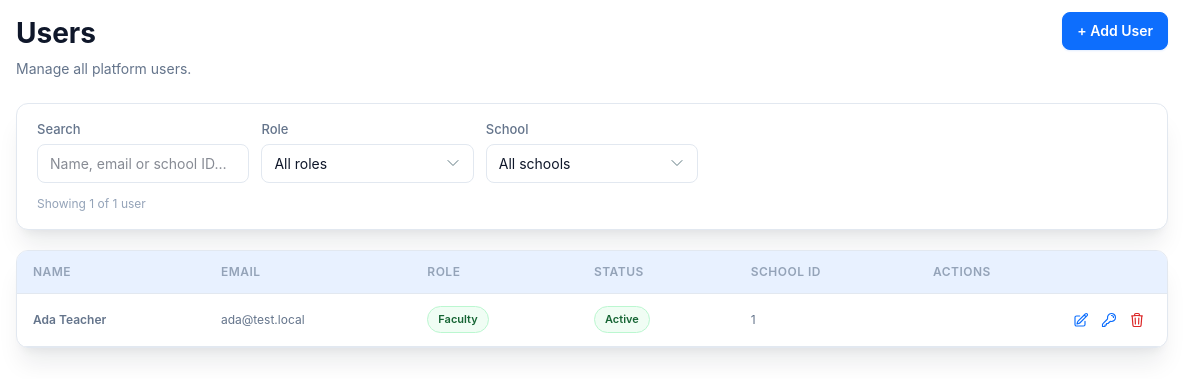
Test case: ManageUsers admin page › deletes a user only after confirmation
The width and height of the screenshot is (1197, 379).
Click the button named "Delete user" at (1137, 320), box [1123,306,1151,334]
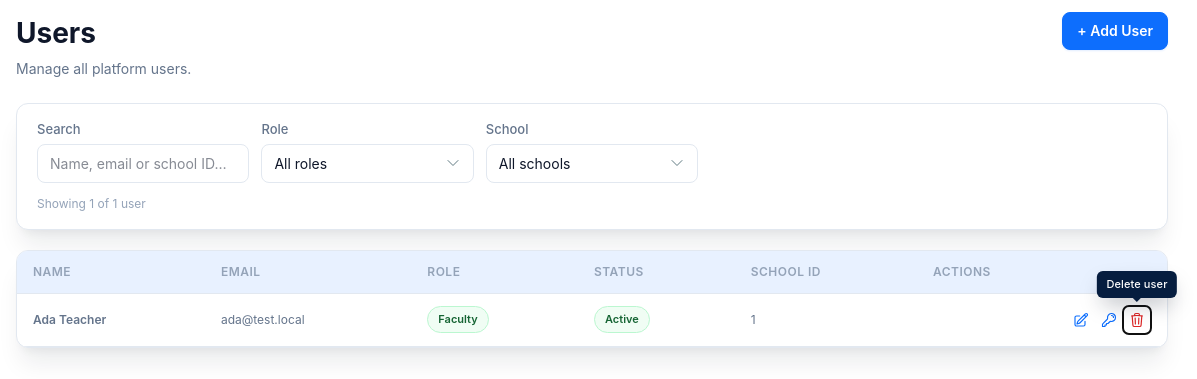
Click the button named "Delete user" at (1137, 320), box [1123,306,1151,334]
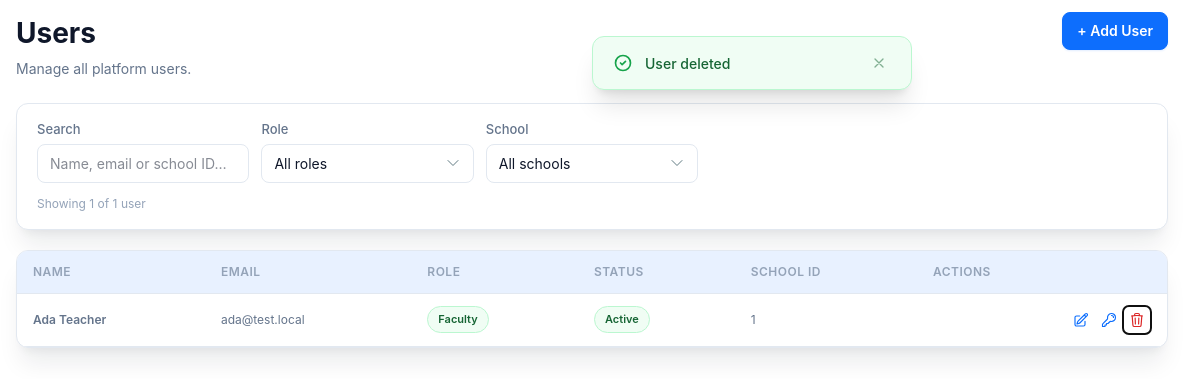
expect the text "User deleted" is shown: met, box [645,54,730,72]
